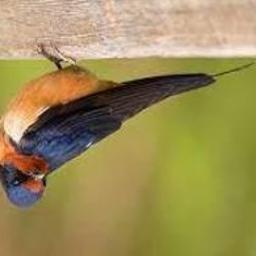Swallow: (0, 42, 255, 207)
